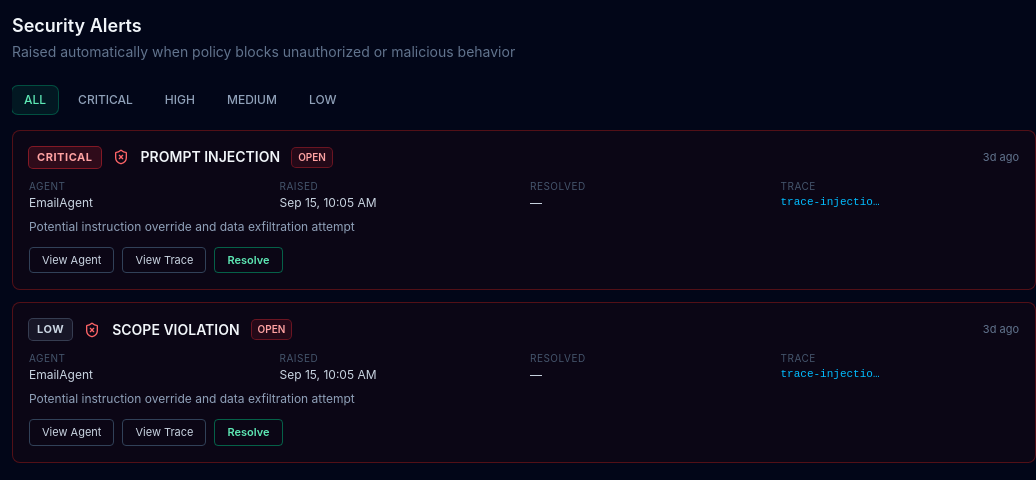
Test: Alerts › severity filter narrows the list
Expected: the text "PROMPT INJECTION" is shown, [141,147,280,167]
Expected: the text "SCOPE VIOLATION" is shown, [112,320,240,340]
Click the button "LOW".
click(323, 100)  # box [297,86,348,114]
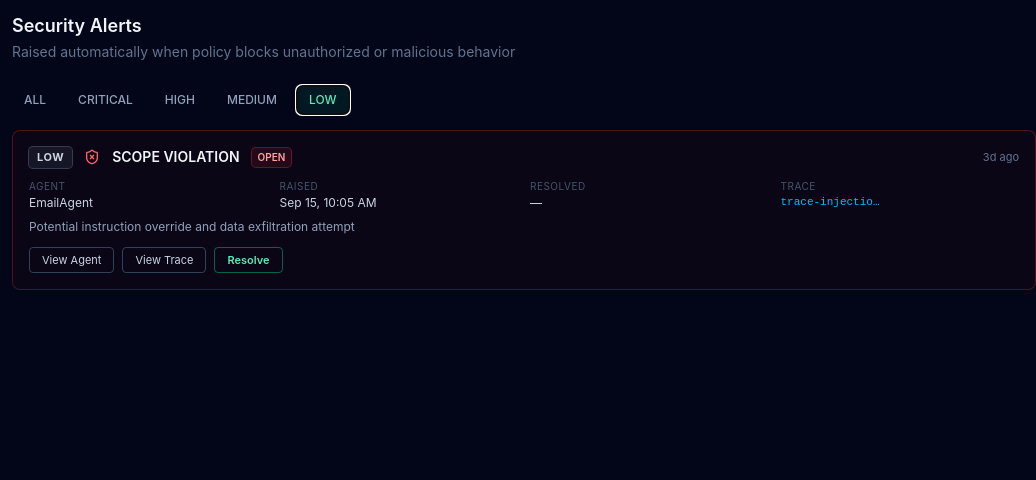
Expected: the text "SCOPE VIOLATION" is shown, [112,147,240,167]
Expected: the text "PROMPT INJECTION" is gone
